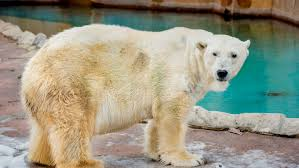PolarBear: (20, 22, 253, 168)
